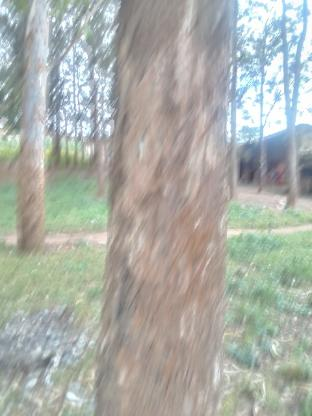tree: (93, 0, 242, 415), (11, 0, 58, 264)
